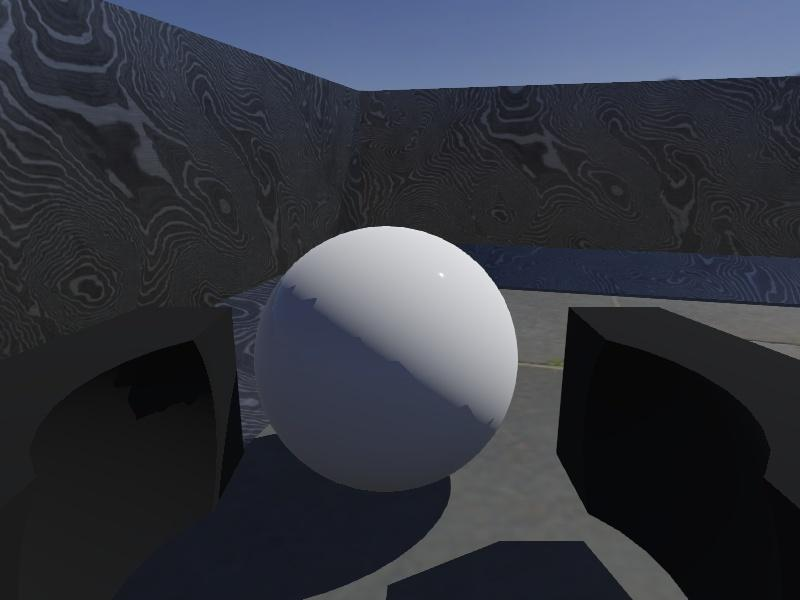white ball: (252, 225, 519, 494)
